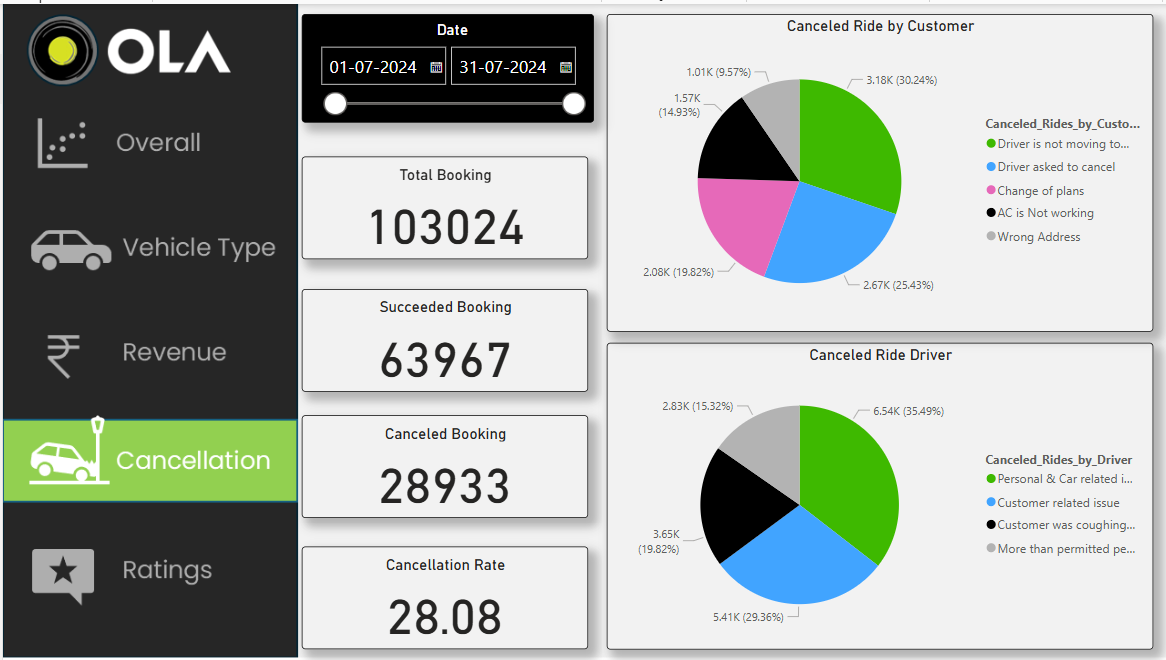

Layout of this report page (visuals, bound fields, positions):
{"tool":"powerbi","page":{"name":"Cancellation","canvas":[1280,720],"ordinal":3},"visuals":[{"type":"actionButton","box":[0,223.2,325.7,89.3],"z":0},{"type":"actionButton","box":[0,337.8,325.7,89.3],"z":1000},{"type":"actionButton","box":[0,579.1,325.7,89.3],"z":2000},{"type":"actionButton","box":[0,114.6,325.7,89.3],"z":3000},{"type":"pieChart","title":"Canceled Ride by Customer","fields":{"Y":["CountNonNull(July.Canceled_Rides_by_Customer)"],"Category":["July.Canceled_Rides_by_Customer"]},"box":[662.9,11.4,600,348.6],"z":4000},{"type":"pieChart","title":"Canceled Ride Driver","fields":{"Category":["July.Canceled_Rides_by_Driver"],"Y":["CountNonNull(July.Canceled_Rides_by_Driver)"]},"box":[662.9,371.4,600,337.1],"z":5000},{"type":"slicer","title":"Date","fields":{"Values":["July.Date"]},"box":[328,11,321.1,119.4],"z":6000},{"type":"card","title":"Succeeded Booking","fields":{"Values":["CountNonNull(July.Booking_ID)"]},"box":[328.6,312.9,314.3,112.9],"z":7000},{"type":"card","title":"Total Booking","fields":{"Values":["CountNonNull(July.Booking_ID)"]},"box":[328.6,167.1,314.3,112.9],"z":8000},{"type":"card","title":"Canceled Booking","fields":{"Values":["CountNonNull(July.Booking_ID)"]},"box":[328.6,451.4,314.3,112.9],"z":9000},{"type":"card","title":"Cancellation Rate","fields":{"Values":["July.CanceledPercentage"]},"box":[328.6,595.7,314.3,112.9],"z":10000}]}

Visuals, with their boxes in screenshot pixels (x1, y1, x2, y2), scaled from the page's 1280x720 canvas onto the 1166x660 screenshot:
actionButton: {"x1": 0, "y1": 205, "x2": 297, "y2": 286}
actionButton: {"x1": 0, "y1": 310, "x2": 297, "y2": 392}
actionButton: {"x1": 0, "y1": 531, "x2": 297, "y2": 613}
actionButton: {"x1": 0, "y1": 105, "x2": 297, "y2": 187}
"Canceled Ride by Customer" pieChart: {"x1": 604, "y1": 10, "x2": 1150, "y2": 330}
"Canceled Ride Driver" pieChart: {"x1": 604, "y1": 340, "x2": 1150, "y2": 649}
"Date" slicer: {"x1": 299, "y1": 10, "x2": 591, "y2": 120}
"Succeeded Booking" card: {"x1": 299, "y1": 287, "x2": 586, "y2": 390}
"Total Booking" card: {"x1": 299, "y1": 153, "x2": 586, "y2": 257}
"Canceled Booking" card: {"x1": 299, "y1": 414, "x2": 586, "y2": 517}
"Cancellation Rate" card: {"x1": 299, "y1": 546, "x2": 586, "y2": 650}
